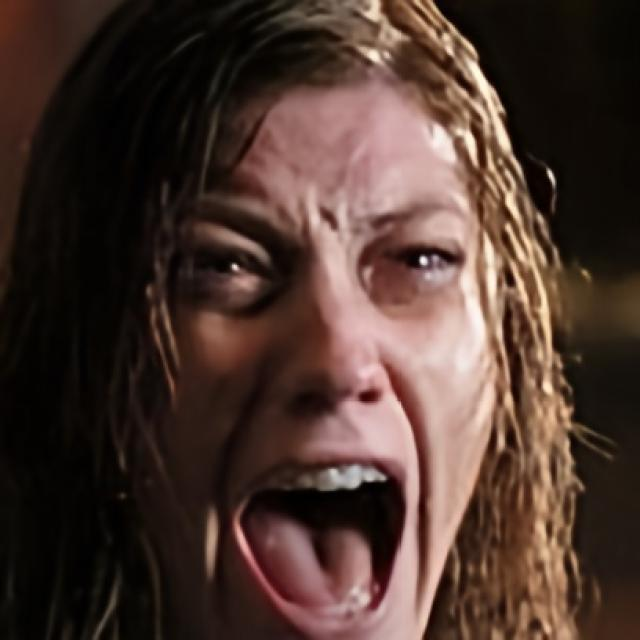anger: (135, 58, 516, 640)
